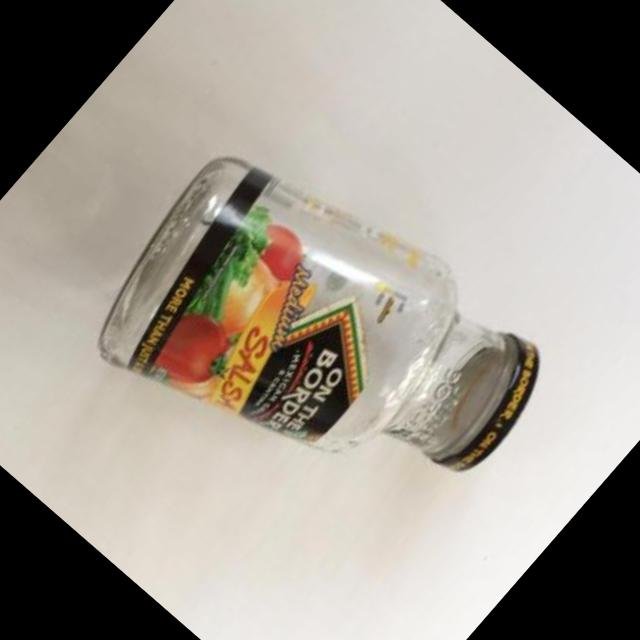ToplesKaca: (62, 100, 568, 596)
